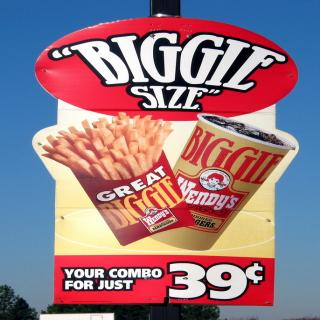French fries: (39, 112, 184, 178)
